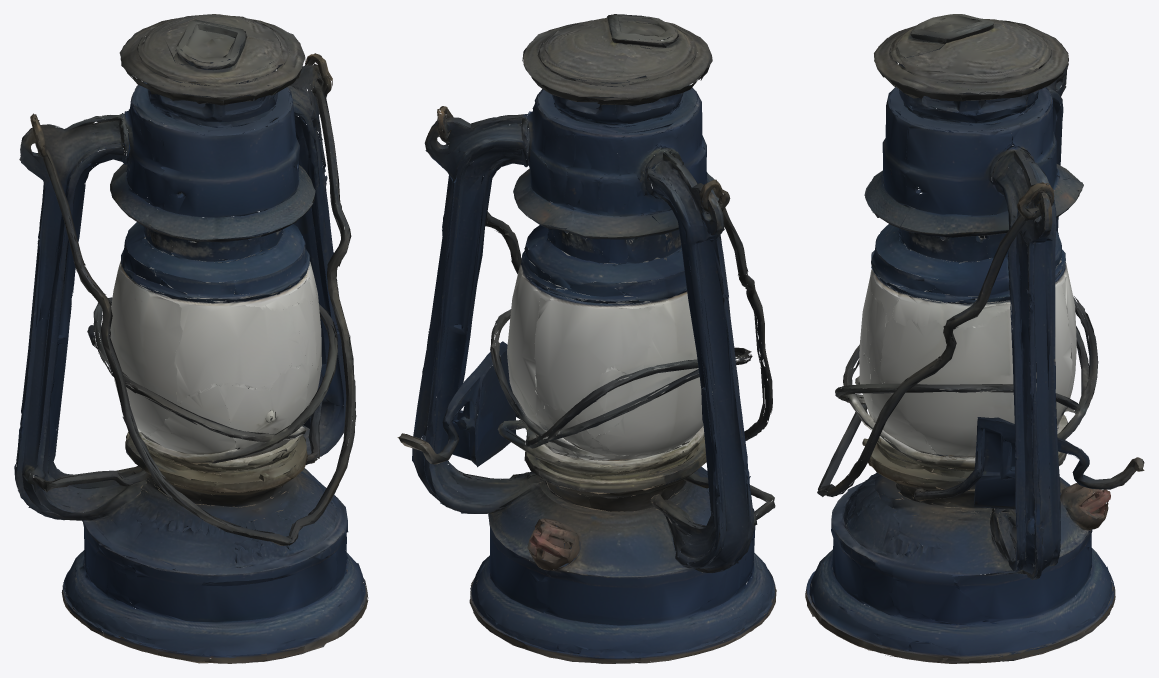
File: blue_lamp.glb
The picture shows the model from 3 angles, left to right: view 1: azimuth 30°, elevation 25°; view 2: azimuth 150°, elevation 25°; view 3: azimuth 270°, elevation 25°; orthographic projection.
Parts seen in each view (by area): view 1: node_0; view 2: node_0; view 3: node_0.
Part boxes in pixels (x1=…): node_0: x1=14, y1=14, x2=368, y2=663; node_0: x1=397, y1=14, x2=776, y2=663; node_0: x1=805, y1=14, x2=1144, y2=663.
Size of the model in its own units: 0.6515 by 1.06 by 0.567.
1 material, 1 textured.
